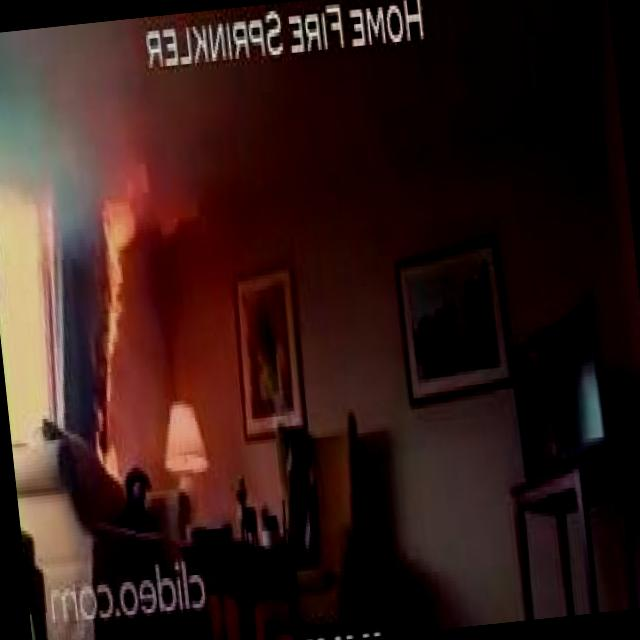fire: (51, 115, 185, 472)
